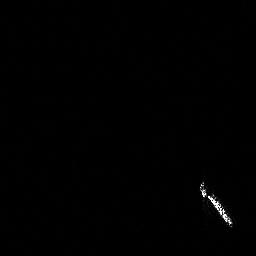ship: (196, 177, 237, 229)
